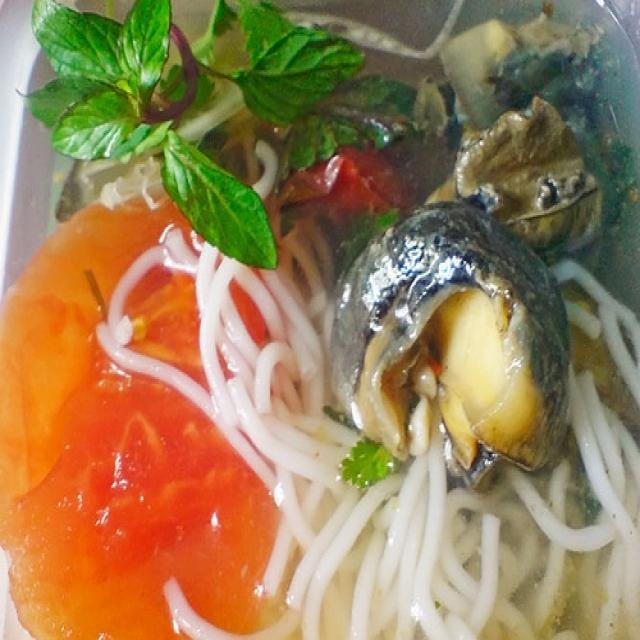面条主食: (15, 12, 628, 631)
